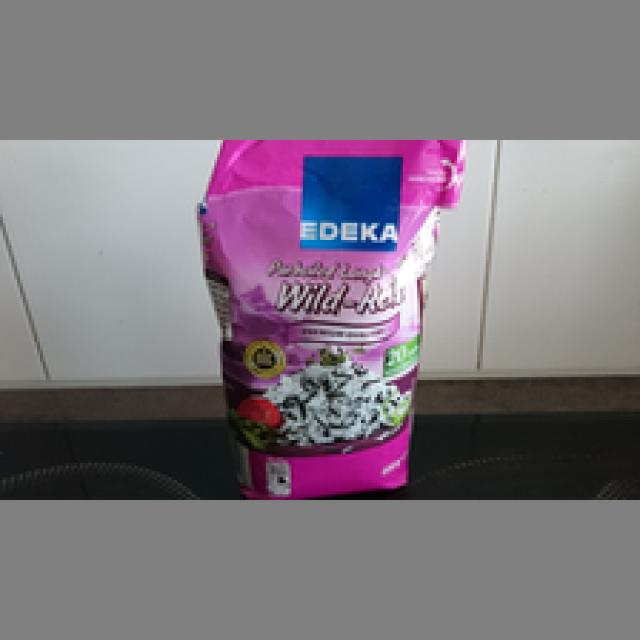groceries: (191, 137, 466, 497)
